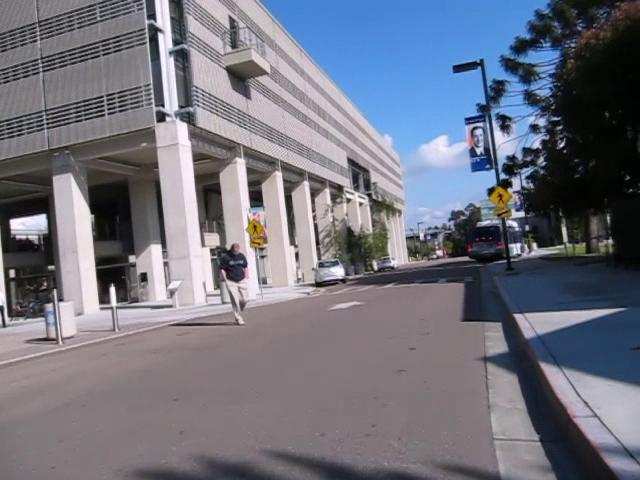pedestrianCrossing: (487, 183, 512, 210)
